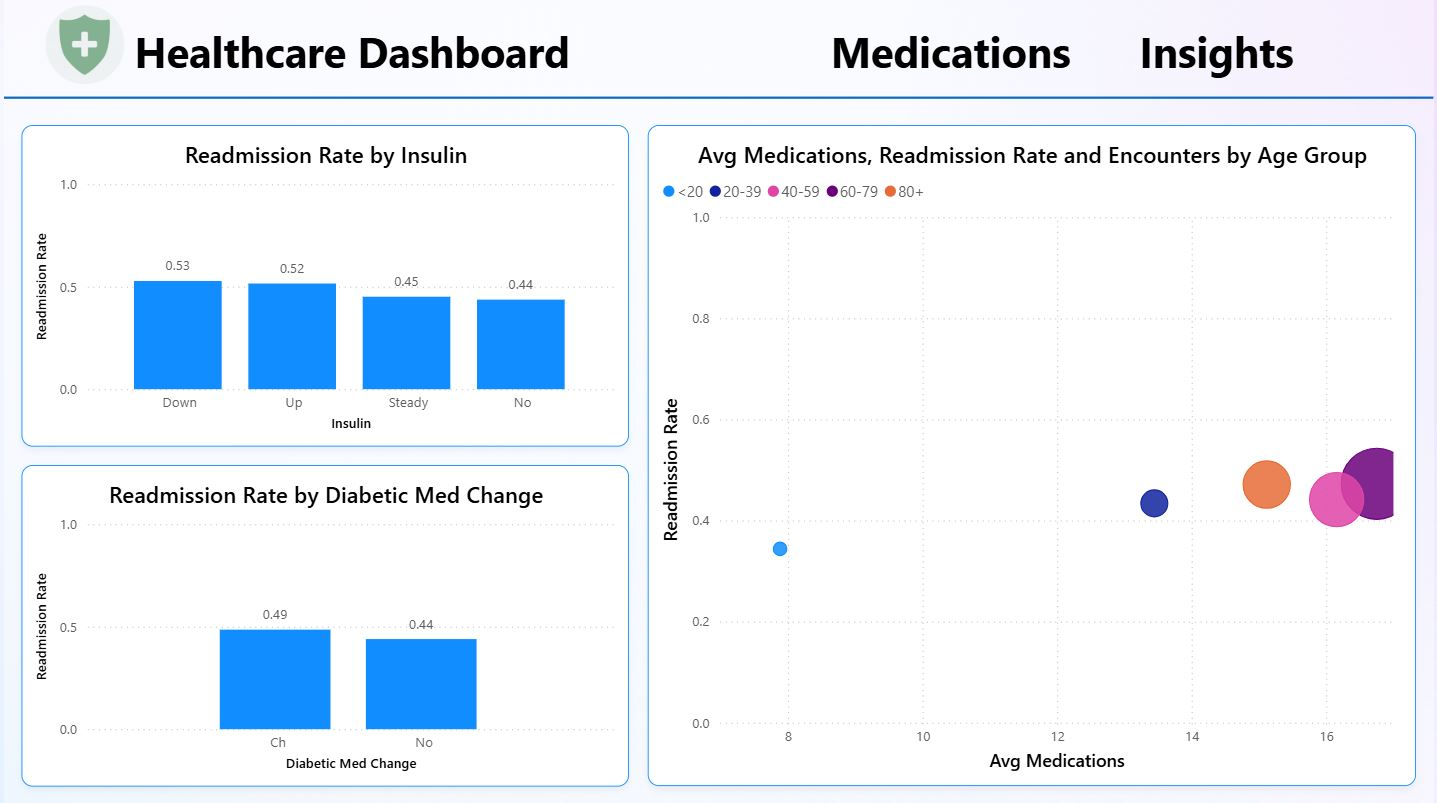

Layout of this report page (visuals, bound fields, positions):
{"tool":"powerbi","page":{"name":"4. Medications & Procedures","canvas":[1280,720],"ordinal":3},"visuals":[{"type":"scatterChart","fields":{"X":["Fact Encounters.Avg Medications"],"Y":["Fact Encounters.Readmission Rate"],"Size":["Fact Encounters.Encounters"],"Series":["Fact Encounters.Age Group"]},"box":[576,112,688,592],"z":0},{"type":"clusteredColumnChart","title":"Readmission Rate by Insulin","fields":{"Category":["Fact Encounters.insulin"],"Y":["Fact Encounters.Readmission Rate"]},"box":[16,112,544,288],"z":1000},{"type":"clusteredColumnChart","title":"Readmission Rate by Diabetic Med Change","fields":{"Category":["Fact Encounters.diabetic_med_change"],"Y":["Fact Encounters.Readmission Rate"]},"box":[16,416,544,288],"z":2000},{"type":"shape","box":[0,80,1280,16],"z":3000},{"type":"textbox","box":[112,16,448,64],"z":4000},{"type":"textbox","box":[736,16,448,64],"z":5000},{"type":"image","box":[32,0,80,80],"z":6000}]}

Visuals, with their boxes in screenshot pixels (x1, y1, x2, y2), scaled from the page's 1280x720 canvas onto the 1437x803 screenshot:
scatterChart - Fact Encounters.Avg Medications x Fact Encounters.Readmission Rate: 647, 125, 1419, 785
"Readmission Rate by Insulin" clusteredColumnChart: 18, 125, 629, 446
"Readmission Rate by Diabetic Med Change" clusteredColumnChart: 18, 464, 629, 785
shape: 0, 89, 1436, 107
textbox: 126, 18, 629, 89
textbox: 826, 18, 1329, 89
image: 36, 0, 126, 89
